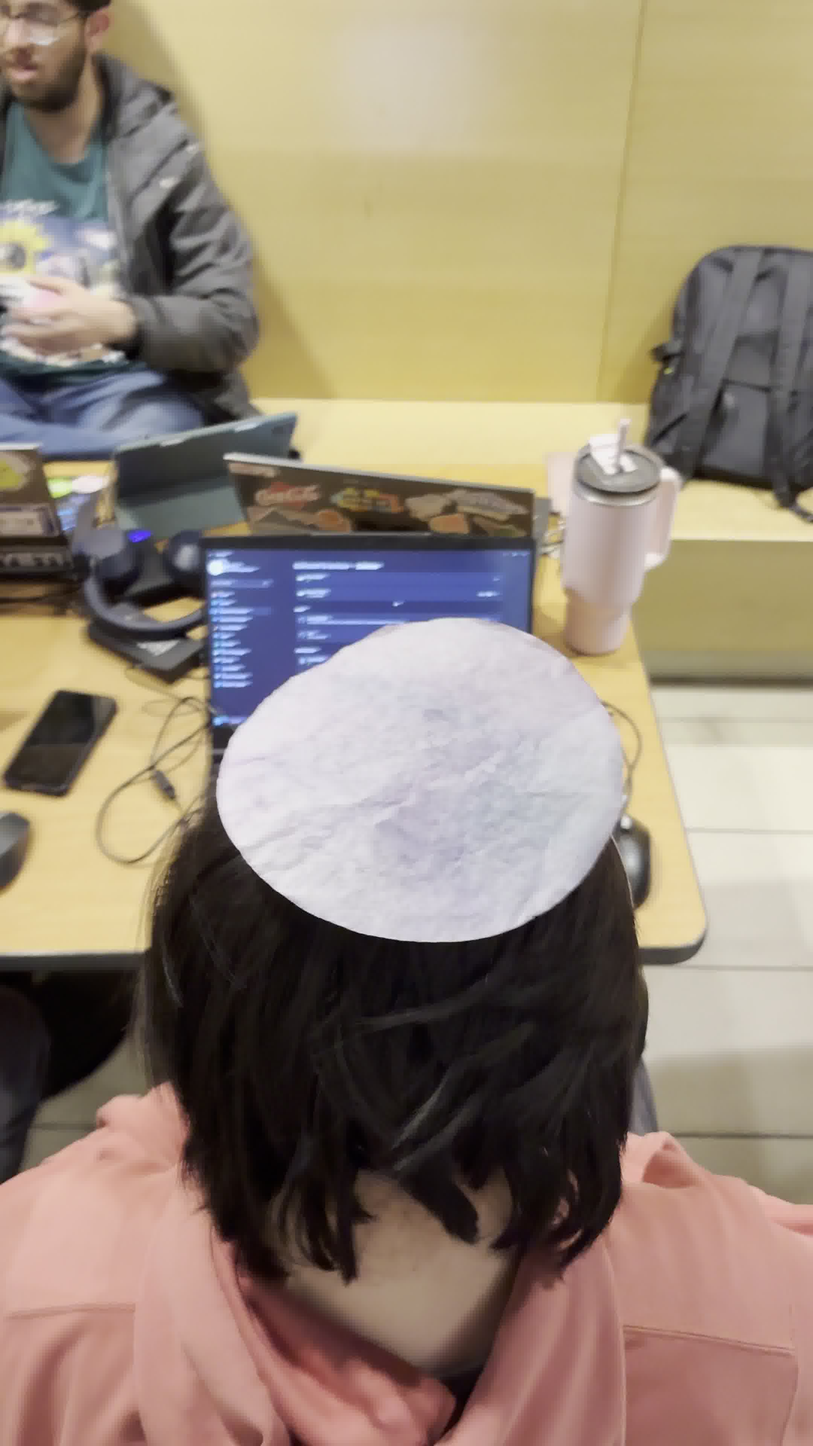Target: (216, 615, 626, 944)
